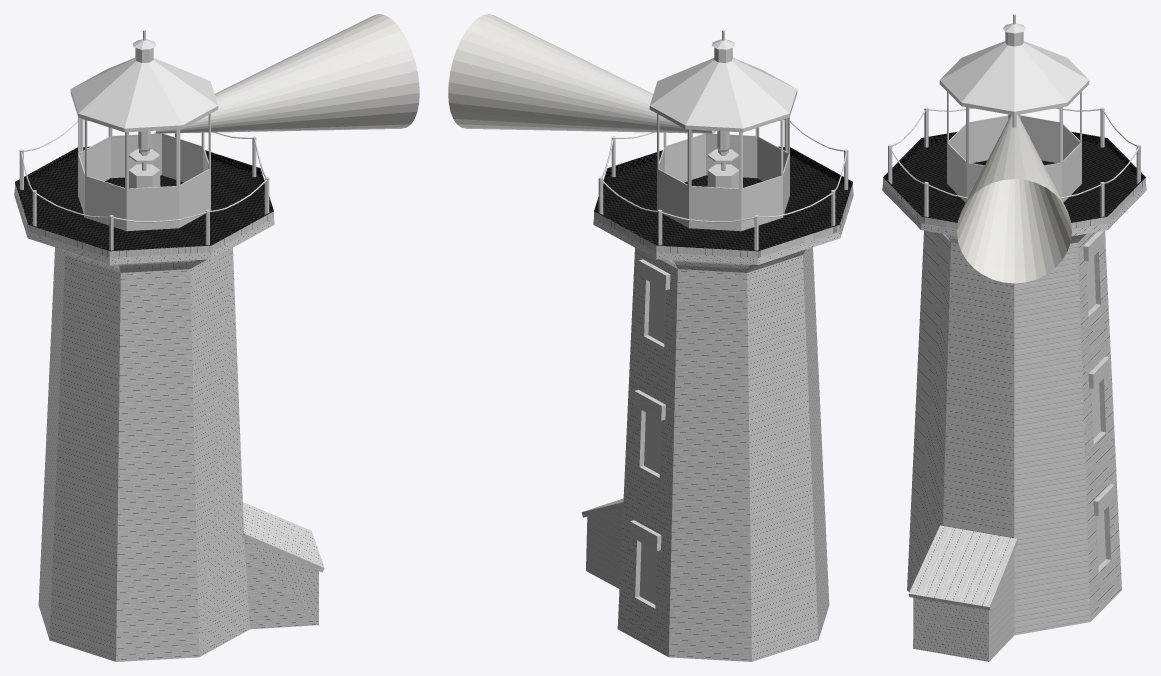
File: lighthouse.fbx
3 renders of one model, left to right at view 1: azimuth 30°, elevation 25°; view 2: azimuth 150°, elevation 25°; view 3: azimuth 270°, elevation 25°, orthographic.
Parts seen in each view (by area): view 1: lighthouseBody, lighthouseTop, lightRay, railings, lightbulb; view 2: lighthouseBody, lighthouseTop, lightRay, windows, railings, windowTops, lightbulb; view 3: lighthouseBody, lighthouseTop, lightRay, railings, windowTops, windows.
Part boxes in pixels (box(x1,y1,x2,y2)): lighthouseBody: box(14, 146, 324, 661); lighthouseTop: box(70, 30, 218, 231); lightRay: box(152, 14, 419, 133); railings: box(19, 118, 269, 250); lightbulb: box(129, 148, 160, 188); lighthouseBody: box(581, 146, 853, 661); lighthouseTop: box(649, 30, 797, 231); lightRay: box(448, 14, 715, 133); windows: box(639, 282, 665, 604); railings: box(598, 118, 848, 250); windowTops: box(629, 259, 670, 550); lightbulb: box(707, 148, 738, 188); lighthouseBody: box(882, 131, 1146, 661); lighthouseTop: box(939, 14, 1089, 202); lightRay: box(957, 115, 1071, 283); railings: box(888, 107, 1140, 216); windowTops: box(1083, 230, 1115, 516); windows: box(1086, 256, 1105, 565).
Bounding box in the file's own units: 382 × 591 × 246.
